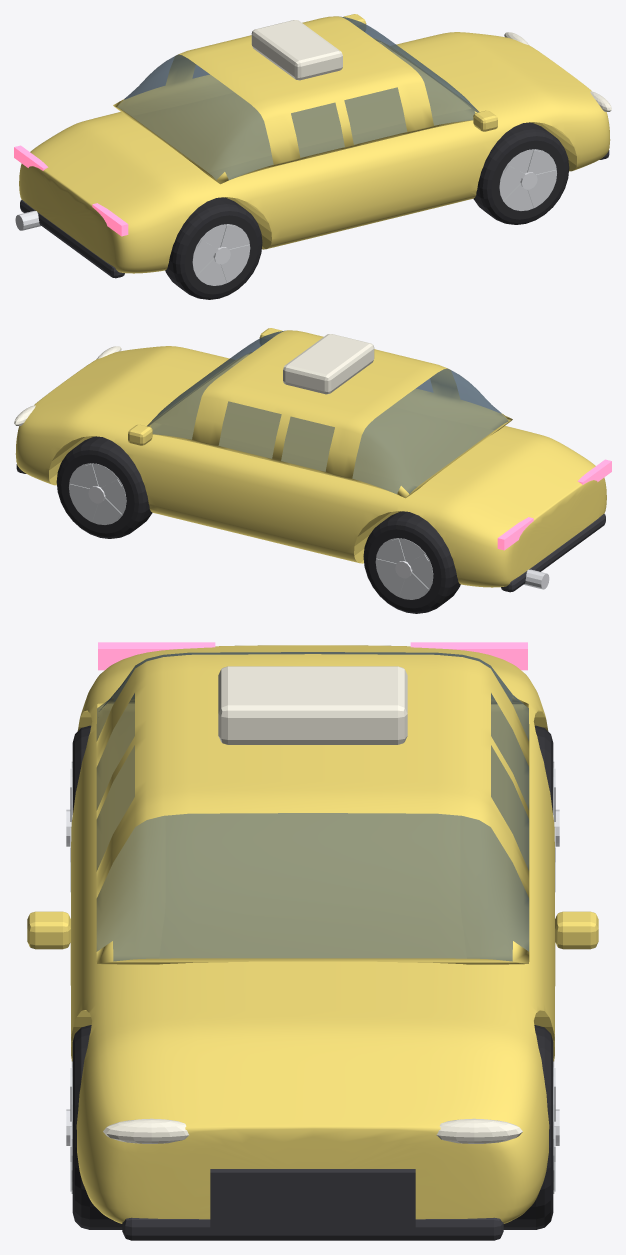
File: city_taxi.fbx
The picture shows the model from 3 angles, top to bottom: view 1: azimuth 30°, elevation 25°; view 2: azimuth 150°, elevation 25°; view 3: azimuth 270°, elevation 25°; orthographic projection. The views are drawn at different scales.
Visible parts, largest first — view 1: Body.005, Glass.005, Tire.005, Rim.005, HeadLight.005, Trim.005, TailLight.005, Chrome.005; view 2: Body.005, Glass.005, Tire.005, Rim.005, HeadLight.005, Trim.005, TailLight.005, Chrome.005; view 3: Body.005, Glass.005, Trim.005, HeadLight.005, Tire.005, TailLight.005, Rim.005.
Boxes of the visible parts, box(x1,y1,x2,y2) form: Body.005: box(19, 14, 610, 273); Glass.005: box(117, 16, 479, 179); Tire.005: box(165, 122, 569, 299); Rim.005: box(192, 149, 556, 285); HeadLight.005: box(251, 20, 611, 111); Trim.005: box(20, 150, 609, 278); TailLight.005: box(14, 145, 128, 236); Chrome.005: box(15, 172, 537, 264); Body.005: box(15, 328, 606, 587); Glass.005: box(147, 330, 508, 493); Tire.005: box(56, 436, 460, 613); Rim.005: box(69, 463, 433, 599); HeadLight.005: box(14, 334, 374, 425); Trim.005: box(16, 464, 605, 592); TailLight.005: box(497, 459, 611, 550); Chrome.005: box(88, 486, 549, 589); Body.005: box(27, 645, 598, 1223); Glass.005: box(96, 652, 529, 961); Trim.005: box(122, 1169, 503, 1240); HeadLight.005: box(103, 666, 522, 1143); Tire.005: box(72, 725, 553, 1229); TailLight.005: box(98, 642, 527, 670); Rim.005: box(70, 761, 555, 1193).
Size of the model in its own units: 1510 by 515 by 724.
